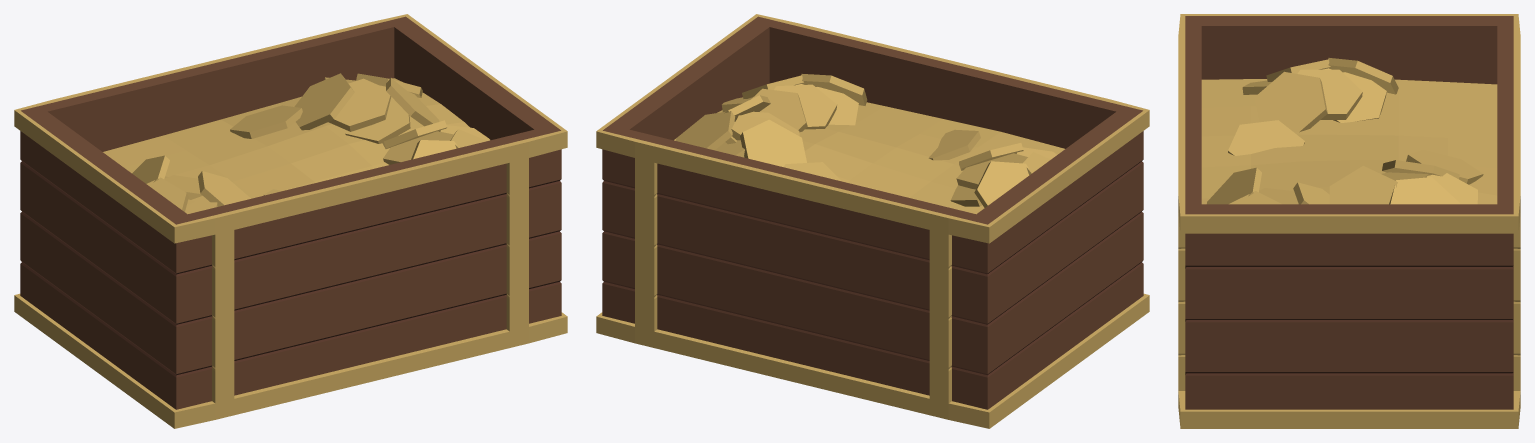
File: Chest_Base.fbx
3 views of the same model, side by side, from view 1: azimuth 30°, elevation 25°; view 2: azimuth 150°, elevation 25°; view 3: azimuth 270°, elevation 25° (orthographic). The views are drawn at different scales.
Visible parts, largest first — view 1: Chest_Base; view 2: Chest_Base; view 3: Chest_Base.
Boxes of the visible parts, x1=… form: Chest_Base: x1=14, y1=14, x2=567, y2=428; Chest_Base: x1=596, y1=14, x2=1149, y2=428; Chest_Base: x1=1178, y1=14, x2=1520, y2=428.
Size of the model in its own units: 102 by 51.04 by 72.89.
